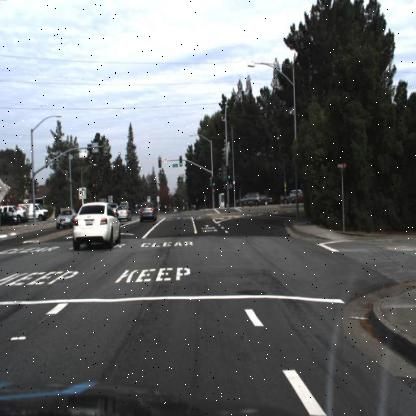car: (73, 198, 120, 247), (132, 198, 156, 229), (54, 206, 78, 231), (24, 197, 48, 221), (54, 207, 74, 232), (233, 191, 260, 208), (234, 190, 261, 207), (138, 201, 156, 224), (116, 202, 132, 226), (276, 187, 295, 207), (289, 190, 306, 206), (262, 190, 274, 207), (118, 206, 130, 222)
trafficLight-Green: (226, 164, 233, 186), (177, 158, 185, 170), (211, 176, 216, 190), (226, 172, 231, 184)
trafficLight-Red: (89, 178, 96, 194), (156, 152, 162, 167)
